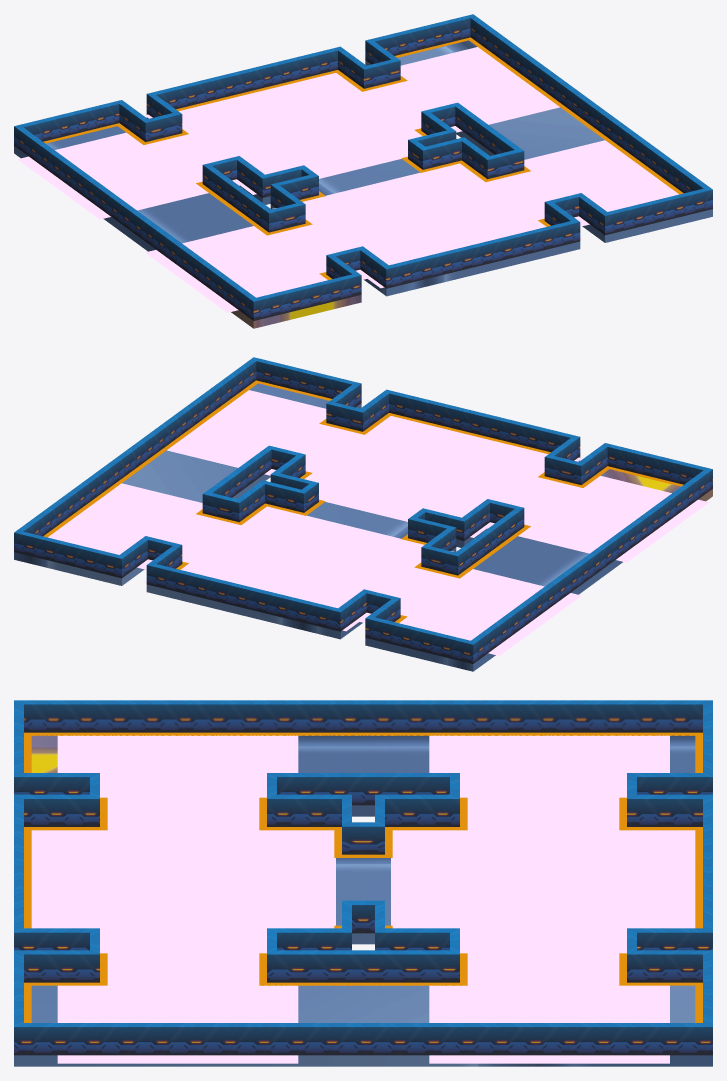
The model's file is Battle_Stage 46.fbx.
The picture shows the model from 3 angles, top to bottom: view 1: azimuth 30°, elevation 25°; view 2: azimuth 150°, elevation 25°; view 3: azimuth 270°, elevation 25°; orthographic projection. The views are drawn at different scales.
Parts seen in each view (by area): view 1: Platform_Cube_2.001, Plane.087, Plane.086, Platform_Cube_2, Plane.088, Plane.090, Plane.089, Plane.091, Platform_Cube_2.002; view 2: Platform_Cube_2.001, Plane.086, Plane.087, Platform_Cube_2, Plane.089, Plane.091, Plane.090, Plane.088, Platform_Cube_2.002; view 3: Platform_Cube_2.001, Plane.087, Plane.086, Platform_Cube_2, Plane.089, Plane.088, Plane.091, Plane.090, Platform_Cube_2.002.
Boxes of the visible parts, x1,y1,x2,y2 form: Platform_Cube_2.001: [14, 14, 712, 320]; Plane.087: [144, 73, 422, 194]; Plane.086: [272, 163, 582, 288]; Platform_Cube_2: [14, 40, 712, 328]; Plane.088: [17, 132, 243, 219]; Plane.090: [366, 47, 559, 132]; Plane.089: [145, 226, 368, 312]; Plane.091: [497, 140, 678, 226]; Platform_Cube_2.002: [43, 37, 683, 279]; Platform_Cube_2.001: [14, 357, 712, 663]; Plane.086: [304, 416, 582, 537]; Plane.087: [144, 506, 454, 631]; Platform_Cube_2: [14, 383, 712, 671]; Plane.089: [483, 476, 708, 562]; Plane.091: [167, 390, 362, 475]; Plane.090: [48, 483, 238, 569]; Plane.088: [359, 569, 581, 655]; Platform_Cube_2.002: [43, 380, 683, 622]; Platform_Cube_2.001: [14, 700, 712, 1055]; Plane.087: [391, 820, 695, 963]; Plane.086: [31, 820, 335, 963]; Platform_Cube_2: [14, 735, 712, 1066]; Plane.089: [57, 735, 298, 829]; Plane.088: [429, 735, 669, 829]; Plane.091: [57, 963, 298, 1063]; Plane.090: [429, 963, 669, 1063]; Platform_Cube_2.002: [24, 732, 702, 1022].
Bounding box in the file's own units: 6538 × 351 × 5625.
